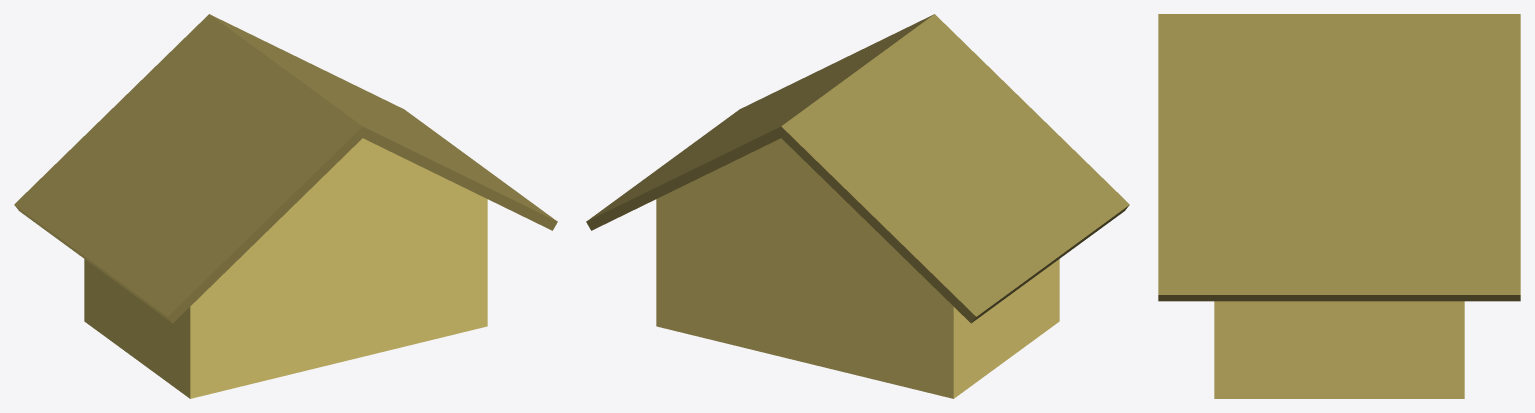
File: result.glb
3 views of the same model, side by side, from view 1: azimuth 30°, elevation 25°; view 2: azimuth 150°, elevation 25°; view 3: azimuth 270°, elevation 25° (orthographic). The views are drawn at different scales.
Parts seen in each view (by area): view 1: 90504cc2-8aa8-4547-b880-22451a0d001e__undefined (×2), 5674e1b0-7aa7-4b70-92f3-33ff6698f3ae__undefined; view 2: 90504cc2-8aa8-4547-b880-22451a0d001e__undefined (×2), 5674e1b0-7aa7-4b70-92f3-33ff6698f3ae__undefined; view 3: 90504cc2-8aa8-4547-b880-22451a0d001e__undefined, 5674e1b0-7aa7-4b70-92f3-33ff6698f3ae__undefined.
Part boxes in pixels (x1,y1,x2,y2): 90504cc2-8aa8-4547-b880-22451a0d001e__undefined (×2): (14, 14, 557, 323); 5674e1b0-7aa7-4b70-92f3-33ff6698f3ae__undefined: (84, 138, 487, 398); 90504cc2-8aa8-4547-b880-22451a0d001e__undefined (×2): (586, 14, 1129, 323); 5674e1b0-7aa7-4b70-92f3-33ff6698f3ae__undefined: (656, 138, 1059, 398); 90504cc2-8aa8-4547-b880-22451a0d001e__undefined: (1158, 14, 1520, 301); 5674e1b0-7aa7-4b70-92f3-33ff6698f3ae__undefined: (1214, 301, 1464, 398).
Size of the model in its own units: 1063 by 660 by 724.
